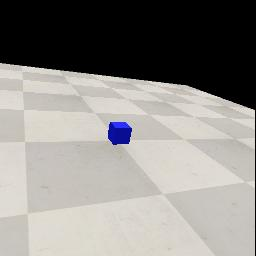box: (108, 122, 132, 145)
